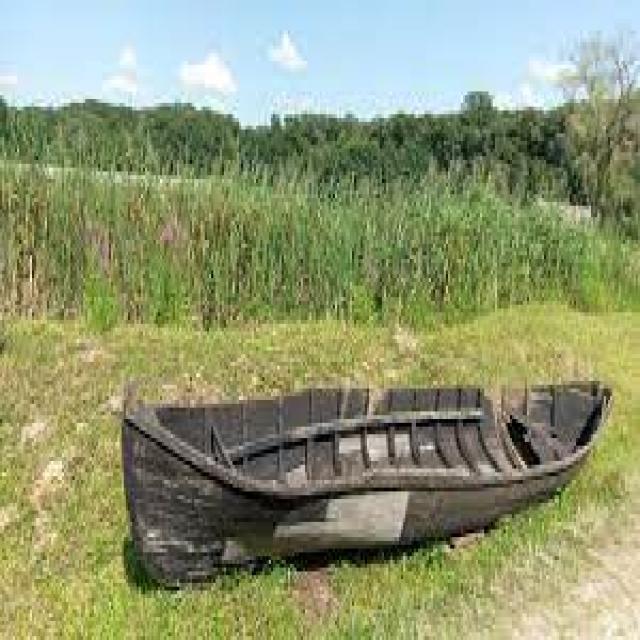ship2: (121, 380, 615, 592)
